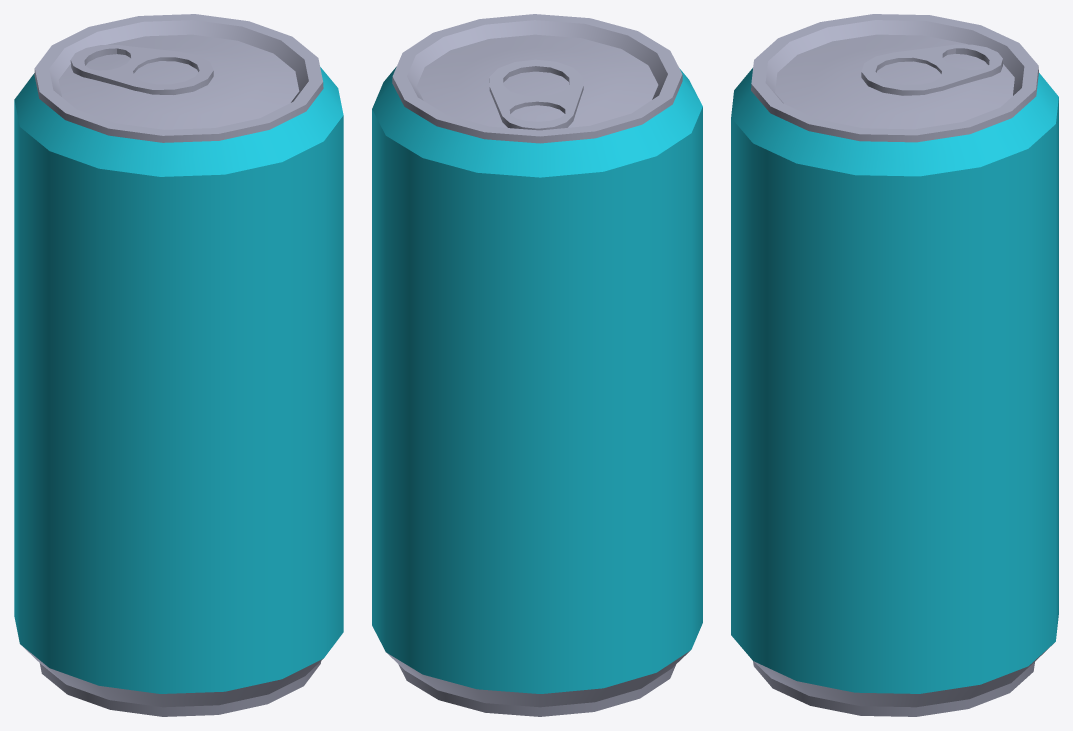
Rendered from Misc_BeverageCan_01.fbx.
The picture shows the model from 3 angles, left to right: view 1: azimuth 30°, elevation 25°; view 2: azimuth 150°, elevation 25°; view 3: azimuth 270°, elevation 25°; orthographic projection.
Parts seen in each view (by area): view 1: Misc_BeverageCan_01.001; view 2: Misc_BeverageCan_01.001; view 3: Misc_BeverageCan_01.001.
Part boxes in pixels (x1=…): Misc_BeverageCan_01.001: x1=14, y1=14, x2=343, y2=716; Misc_BeverageCan_01.001: x1=372, y1=14, x2=702, y2=716; Misc_BeverageCan_01.001: x1=731, y1=14, x2=1058, y2=716.
Size of the model in its own units: 0.0685 by 0.1348 by 0.0685.
